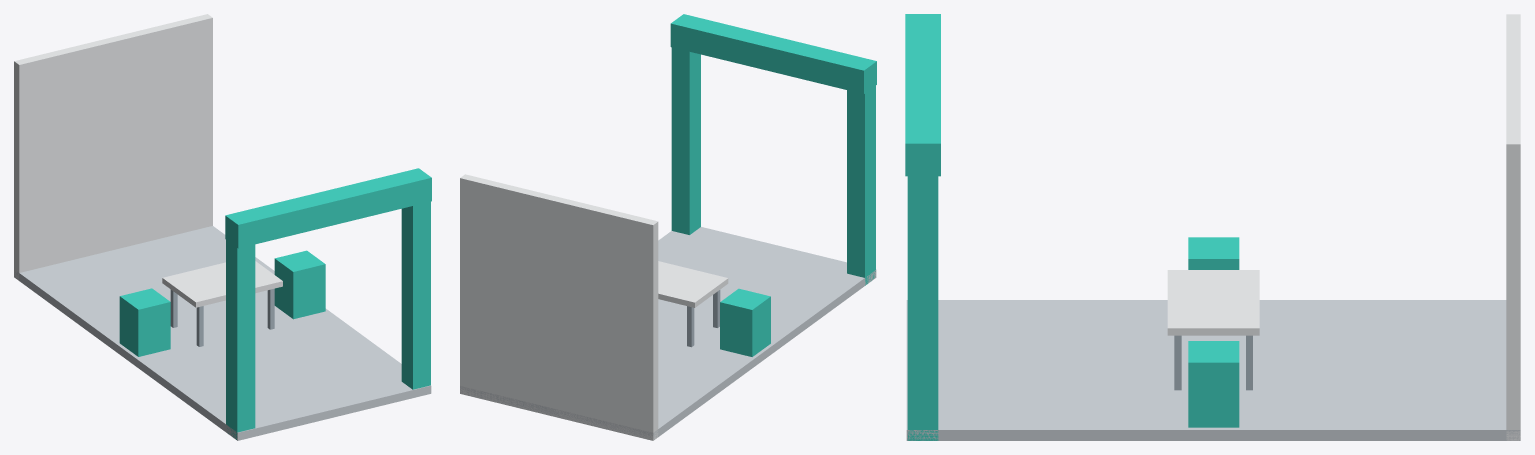
The picture shows the model from 3 angles, left to right: view 1: azimuth 30°, elevation 25°; view 2: azimuth 150°, elevation 25°; view 3: azimuth 270°, elevation 25°; orthographic projection. The views are drawn at different scales.
Parts seen in each view (by area): view 1: Exhibition Booth Concept; view 2: Exhibition Booth Concept; view 3: Exhibition Booth Concept.
Part boxes in pixels (left/top/right/bottom): Exhibition Booth Concept: left=14, top=14, right=431, bottom=440; Exhibition Booth Concept: left=460, top=14, right=876, bottom=440; Exhibition Booth Concept: left=905, top=14, right=1520, bottom=440.
Bounding box in the file's own units: 3 × 3.2 × 6.02.
